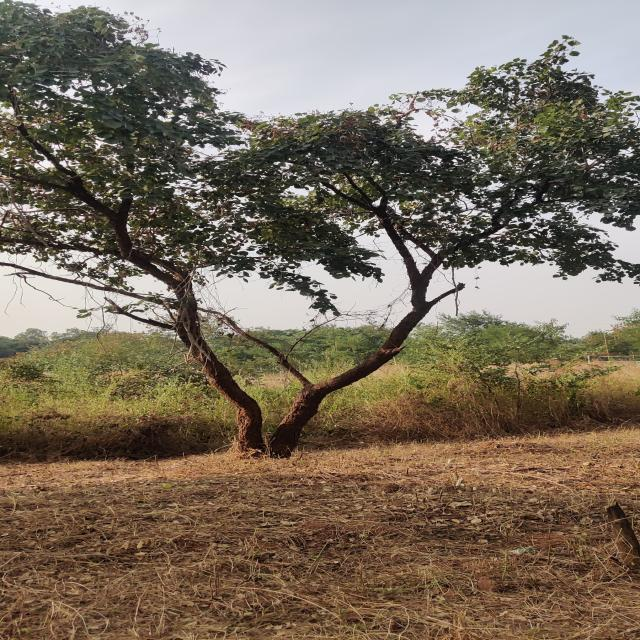Devakanchan tree: (48, 38, 640, 444)
